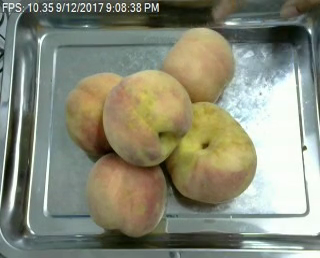Peach: (164, 101, 256, 206), (101, 72, 190, 167), (86, 153, 168, 238), (158, 27, 234, 105), (68, 72, 119, 155)
